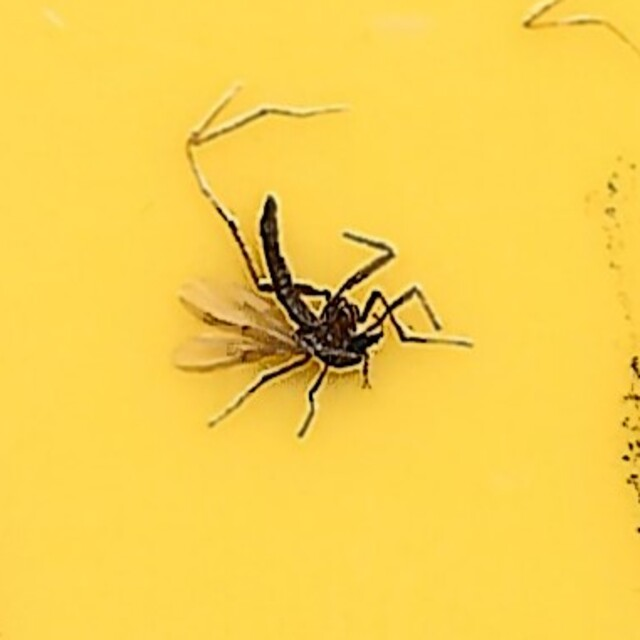Nematocera: (168, 190, 472, 450)
